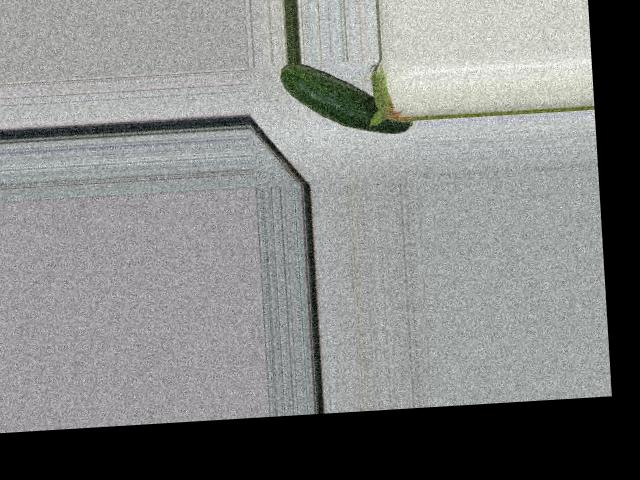cucumber: (279, 56, 413, 139)
